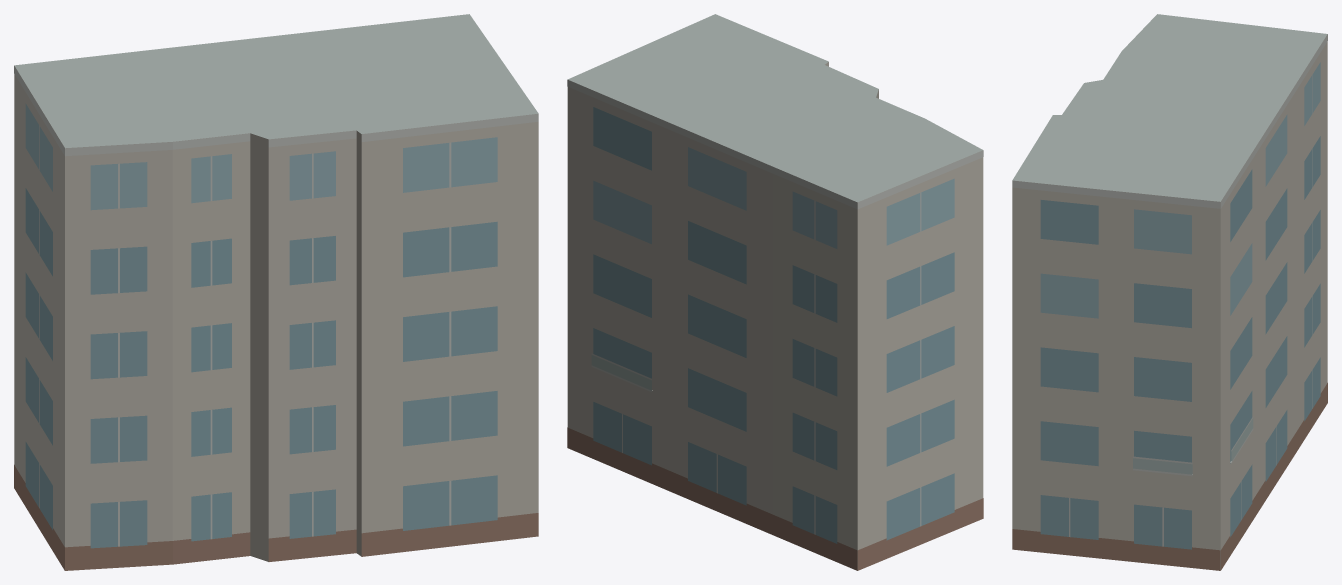
The model's file is survey-upis-32958514.glb.
3 renders of one model, left to right at view 1: azimuth 30°, elevation 25°; view 2: azimuth 150°, elevation 25°; view 3: azimuth 270°, elevation 25°, orthographic. The views are drawn at different scales.
Visible parts, largest first — view 1: survey-upis-32958514.tmp; view 2: survey-upis-32958514.tmp; view 3: survey-upis-32958514.tmp.
Boxes of the visible parts, x1=… form: survey-upis-32958514.tmp: x1=14, y1=14, x2=538, y2=570; survey-upis-32958514.tmp: x1=567, y1=14, x2=983, y2=570; survey-upis-32958514.tmp: x1=1012, y1=14, x2=1327, y2=570.
Bounding box in the file's own units: 13.98 × 12.8 × 9.93.
